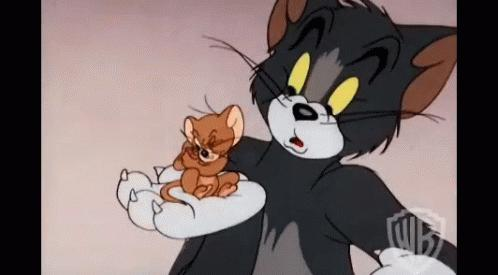jerry: (158, 94, 246, 206)
